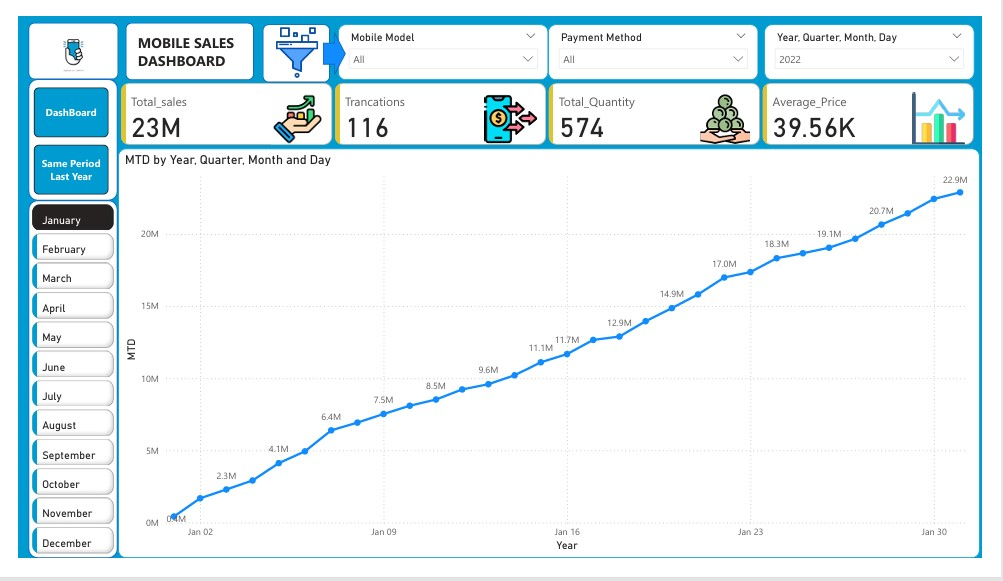

Layout of this report page (visuals, bound fields, positions):
{"tool":"powerbi","page":{"name":"MTD","canvas":[1280,720],"ordinal":1},"visuals":[{"type":"shape","box":[14.2,8.5,119.1,75.1],"z":0},{"type":"image","box":[43.9,19.8,59.5,59.5],"z":1000},{"type":"shape","box":[14.2,83.6,117.6,161.6],"z":2000},{"type":"cardVisual","fields":{"Data":["Sales Data.Total_sales","Sales Data.Trancations","Sales Data.Total_Quantity","Sales Data.Average_Price"]},"box":[131.8,83.6,1145.2,92.1],"z":3000},{"type":"slicer","fields":{"Values":["Sales Data.Mobile Model"]},"box":[424.9,11.3,278.8,74.1],"z":4000},{"type":"slicer","fields":{"Values":["Sales Data.Payment Method"]},"box":[703.9,11.2,279,74],"z":5000},{"type":"slicer","fields":{"Values":["Custom_Calendar.Date.Variation.Date Hierarchy.Year","Custom_Calendar.Date.Variation.Date Hierarchy.Quarter","Custom_Calendar.Date.Variation.Date Hierarchy.Month","Custom_Calendar.Date.Variation.Date Hierarchy.Day"]},"box":[990.9,11.2,279,74],"z":6000},{"type":"shape","box":[324.6,11.3,89.3,76.5],"z":7000},{"type":"image","box":[279.2,8.5,181.4,79.4],"z":8000},{"type":"shape","box":[405.4,21.3,29.8,58.1],"z":9000},{"type":"shape","box":[143.1,8.5,170.1,76.5],"z":10000},{"type":"textbox","box":[154.5,17,147.4,59.5],"z":11000},{"type":"lineChart","fields":{"Y":["Sales Data.MTD"],"Category":["Custom_Calendar.Date.Variation.Date Hierarchy.Year","Custom_Calendar.Date.Variation.Date Hierarchy.Quarter","Custom_Calendar.Date.Variation.Date Hierarchy.Month","Custom_Calendar.Date.Variation.Date Hierarchy.Day"]},"box":[133.2,175.7,1143.8,544.3],"z":12000},{"type":"shape","box":[14.2,245.2,117.6,474.8],"z":13000},{"type":"advancedSlicerVisual","fields":{"Values":["Custom_Calendar.Date.Variation.Date Hierarchy.Month"]},"box":[14.2,245.2,117.6,474.8],"z":14000},{"type":"pageNavigator","box":[21.3,95,99.2,141.7],"z":14001}]}

Visuals, with their boxes in screenshot pixels (x1, y1, x2, y2), scaled from the page's 1280x720 canvas onto the 1003x581 screenshot:
shape: 11,7,104,67
image: 34,16,81,64
shape: 11,67,103,198
cardVisual - Sales Data.Total_sales x Sales Data.Trancations: 103,67,1001,142
slicer - Sales Data.Mobile Model: 333,9,551,69
slicer - Sales Data.Payment Method: 552,9,770,69
slicer - Custom_Calendar.Date.Variation.Date Hierarchy.Year x Custom_Calendar.Date.Variation.Date Hierarchy.Quarter: 776,9,995,69
shape: 254,9,324,71
image: 219,7,361,71
shape: 318,17,341,64
shape: 112,7,245,69
textbox: 121,14,237,62
lineChart - Sales Data.MTD x Custom_Calendar.Date.Variation.Date Hierarchy.Year: 104,142,1001,580
shape: 11,198,103,580
advancedSlicerVisual - Custom_Calendar.Date.Variation.Date Hierarchy.Month: 11,198,103,580
pageNavigator: 17,77,94,191
